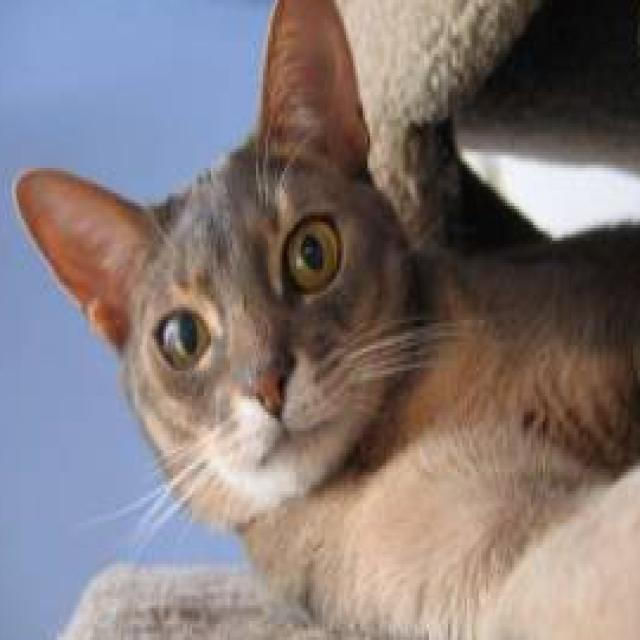Abyssinian: (12, 0, 640, 548)
